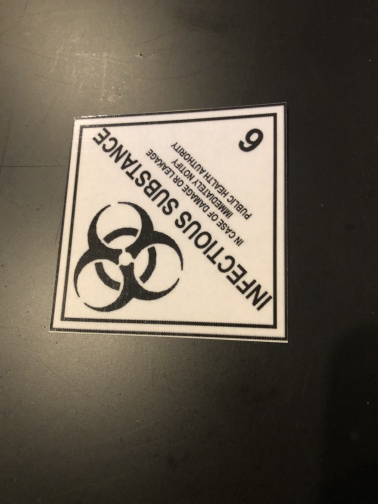InfectiousSubstance: (51, 105, 294, 341)
